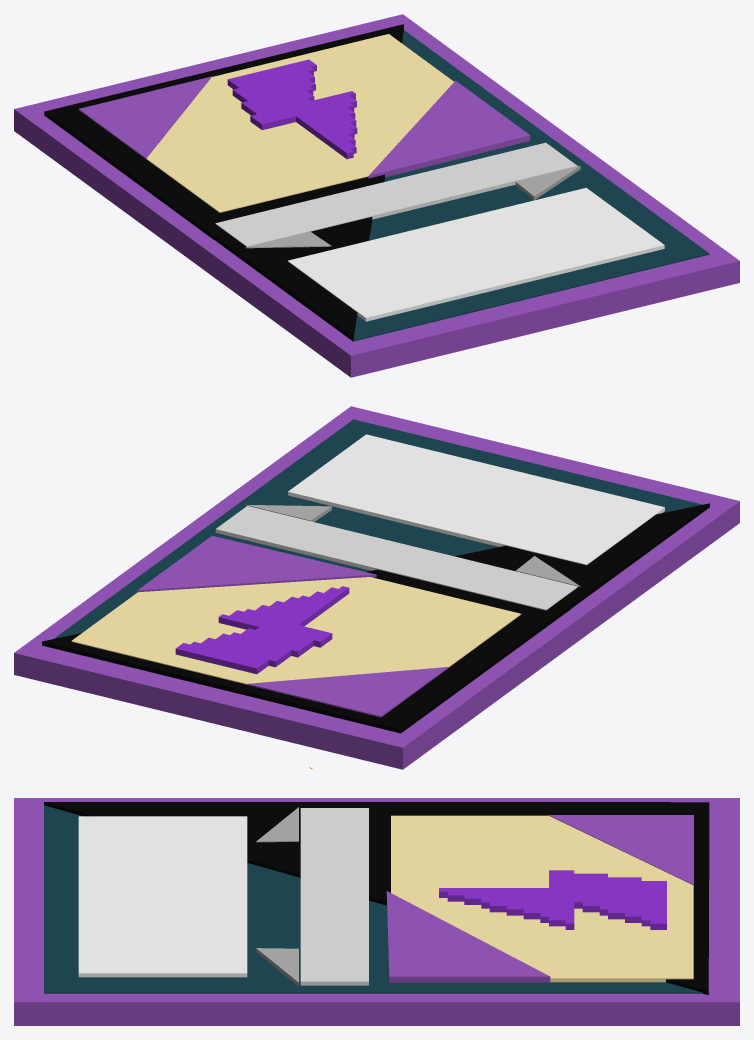
Rendered from carta_trueno.glb.
3 views of the same model, one above another, from view 1: azimuth 30°, elevation 25°; view 2: azimuth 150°, elevation 25°; view 3: azimuth 270°, elevation 25° (orthographic). The views are drawn at different scales.
Parts seen in each view (by area): view 1: rect44858, rect44868, rect44874, path44864, path44866, path44862, path44892, path52324, path44870, path44894, path44880, path44872; view 2: rect44858, rect44868, rect44874, path44864, path44866, path44862, path52324, path44892, path44870, path44894, path44880, path44872; view 3: rect44858, rect44868, rect44874, path44864, path44866, path44862, path52324, path44892, path44870, path44894, path44880, path44872.
Part boxes in pixels (x1=…): rect44858: x1=14, y1=14, x2=739, y2=377; rect44868: x1=146, y1=34, x2=453, y2=212; rect44874: x1=287, y1=187, x2=664, y2=321; path44864: x1=353, y1=30, x2=709, y2=341; path44866: x1=215, y1=142, x2=577, y2=246; path44862: x1=44, y1=24, x2=403, y2=239; path44892: x1=368, y1=80, x2=530, y2=178; path52324: x1=227, y1=59, x2=357, y2=159; path44870: x1=211, y1=217, x2=372, y2=341; path44894: x1=78, y1=76, x2=211, y2=159; path44880: x1=515, y1=166, x2=580, y2=200; path44872: x1=245, y1=231, x2=331, y2=248; rect44858: x1=14, y1=406, x2=739, y2=769; rect44868: x1=71, y1=577, x2=521, y2=684; rect44874: x1=288, y1=434, x2=664, y2=565; path44864: x1=44, y1=419, x2=702, y2=646; path44866: x1=215, y1=506, x2=577, y2=610; path44862: x1=42, y1=569, x2=571, y2=733; path52324: x1=175, y1=586, x2=349, y2=674; path44892: x1=137, y1=535, x2=376, y2=592; path44870: x1=455, y1=503, x2=709, y2=608; path44894: x1=247, y1=667, x2=448, y2=717; path44880: x1=246, y1=504, x2=331, y2=521; path44872: x1=516, y1=556, x2=580, y2=587; rect44858: x1=14, y1=798, x2=739, y2=1025; rect44868: x1=391, y1=815, x2=693, y2=982; rect44874: x1=78, y1=816, x2=247, y2=977; path44864: x1=44, y1=805, x2=709, y2=993; path44866: x1=300, y1=808, x2=368, y2=985; path44862: x1=350, y1=802, x2=709, y2=995; path52324: x1=439, y1=870, x2=666, y2=929; path44892: x1=386, y1=891, x2=550, y2=982; path44870: x1=44, y1=802, x2=350, y2=877; path44894: x1=548, y1=815, x2=693, y2=885; path44880: x1=256, y1=948, x2=298, y2=986; path44872: x1=256, y1=807, x2=298, y2=842.
Size of the model in its own units: 0.6968 by 0.1876 by 1.05.
